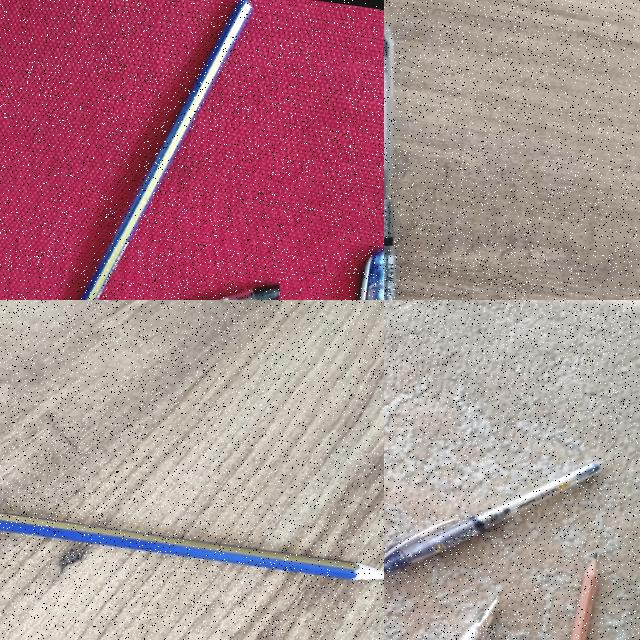pen: (384, 438, 600, 597), (50, 255, 281, 300), (384, 25, 393, 299)
pencil: (80, 0, 252, 300), (0, 513, 383, 580), (535, 552, 603, 640)
signature pen: (384, 587, 500, 640)
